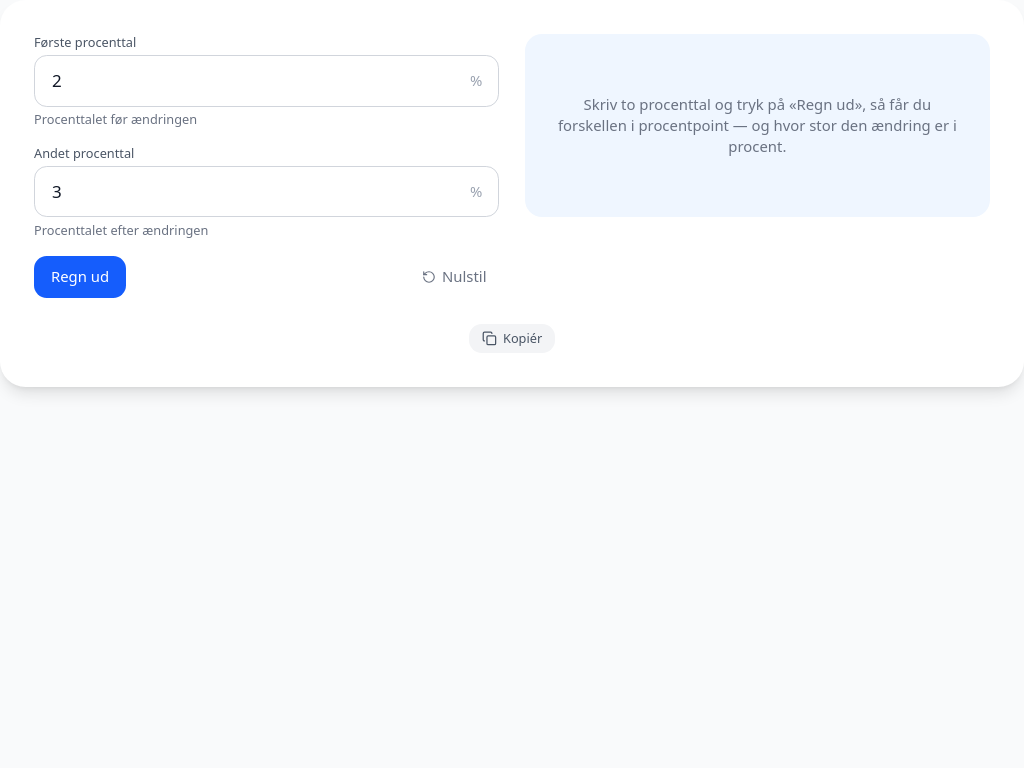
Test case: point forskellen og den procentvise ændring er to tal › et fald er negativt i begge tal
Replace the text in the number field labelled "Første procenttal" with "3". click: point(267, 81)
box: [34,55,499,106]
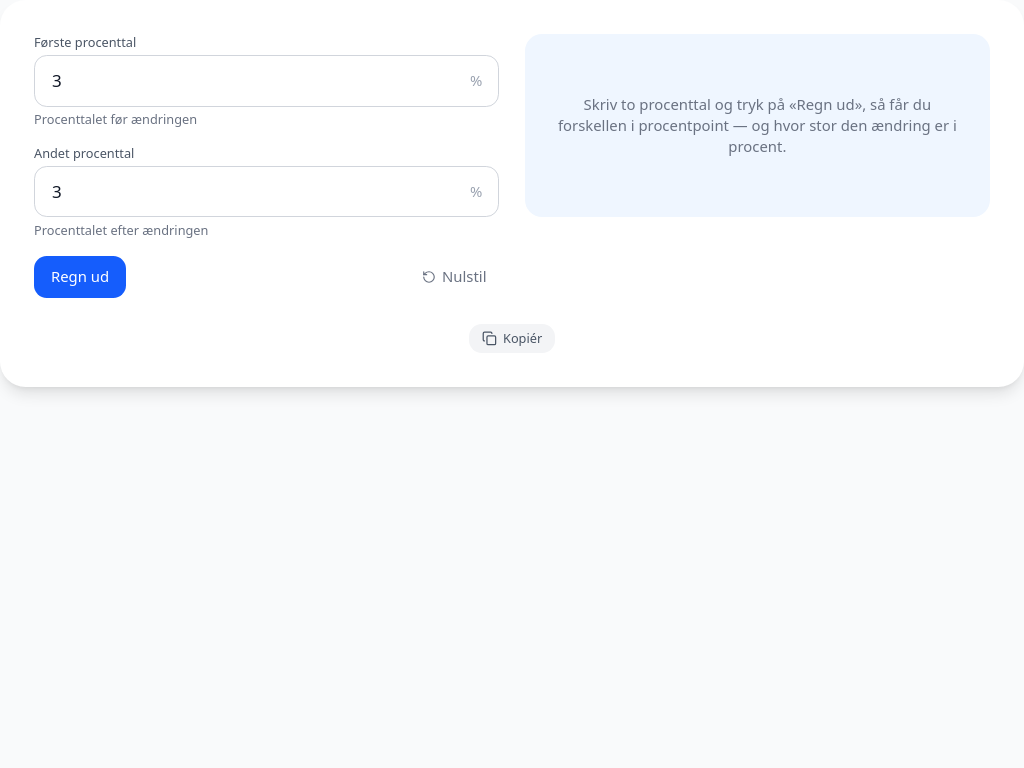
Replace the text in the number field labelled "Andet procenttal" with "2". click: point(267, 192)
box: [34,166,499,217]
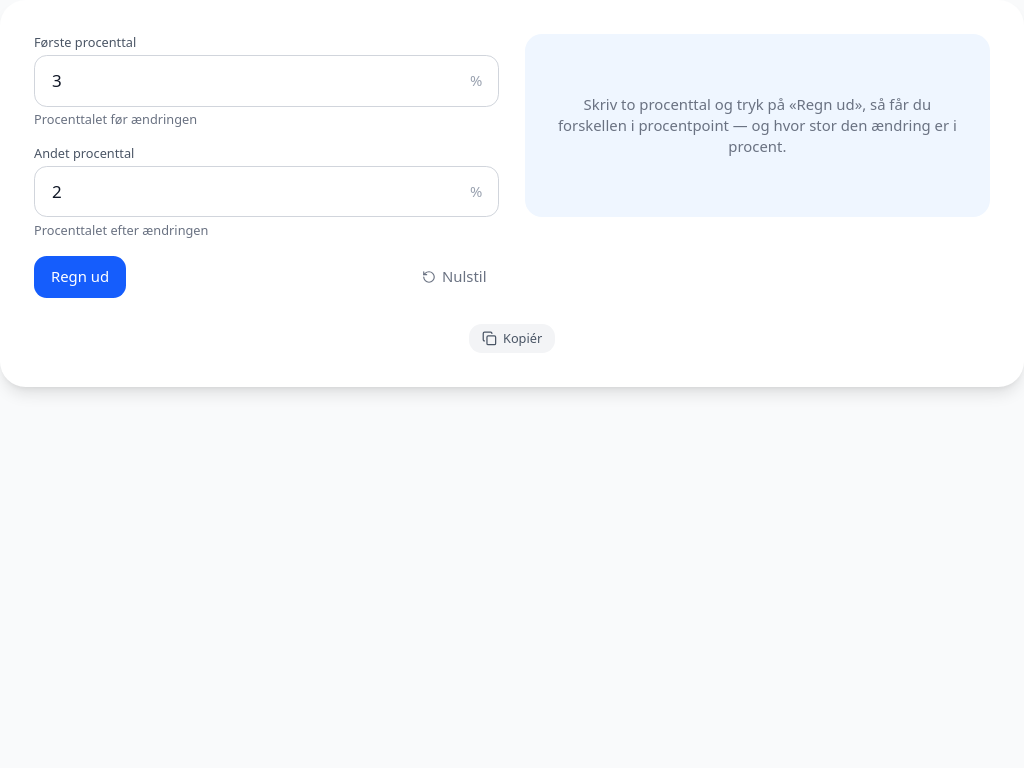
Click the button "Regn ud". click: point(80, 277)
box: [34,256,126,298]
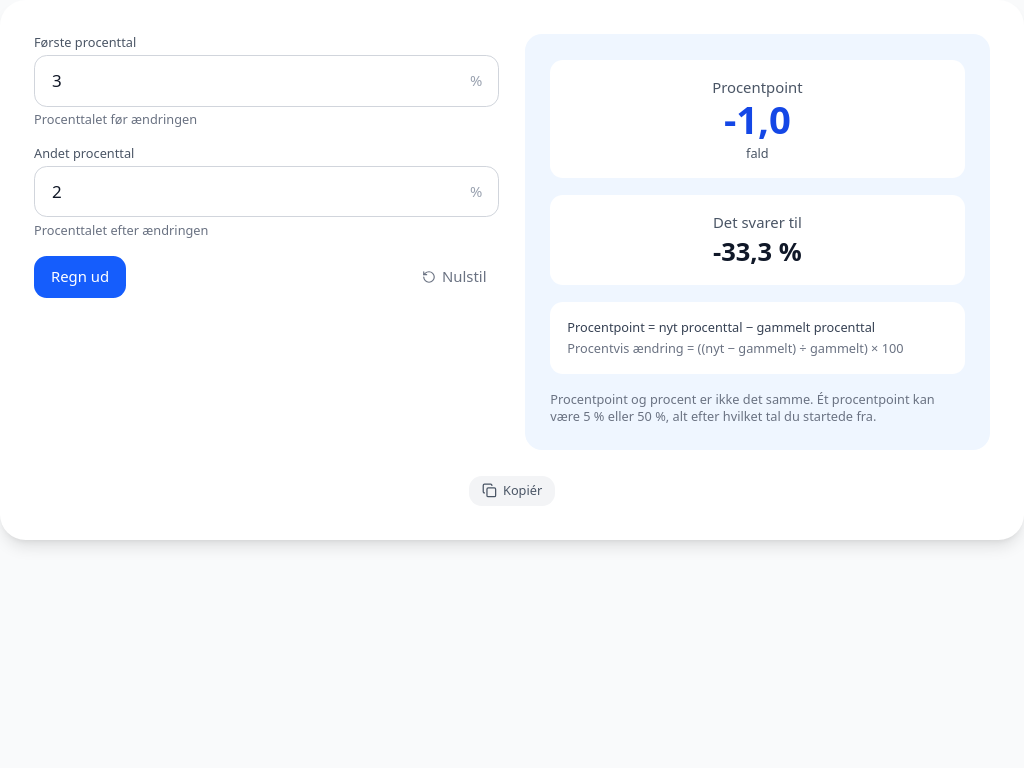
Expected: the text "-1,0" is shown, [724,93,791,145]
Expected: the text "-33,3 %" is shown, [713,234,802,268]
